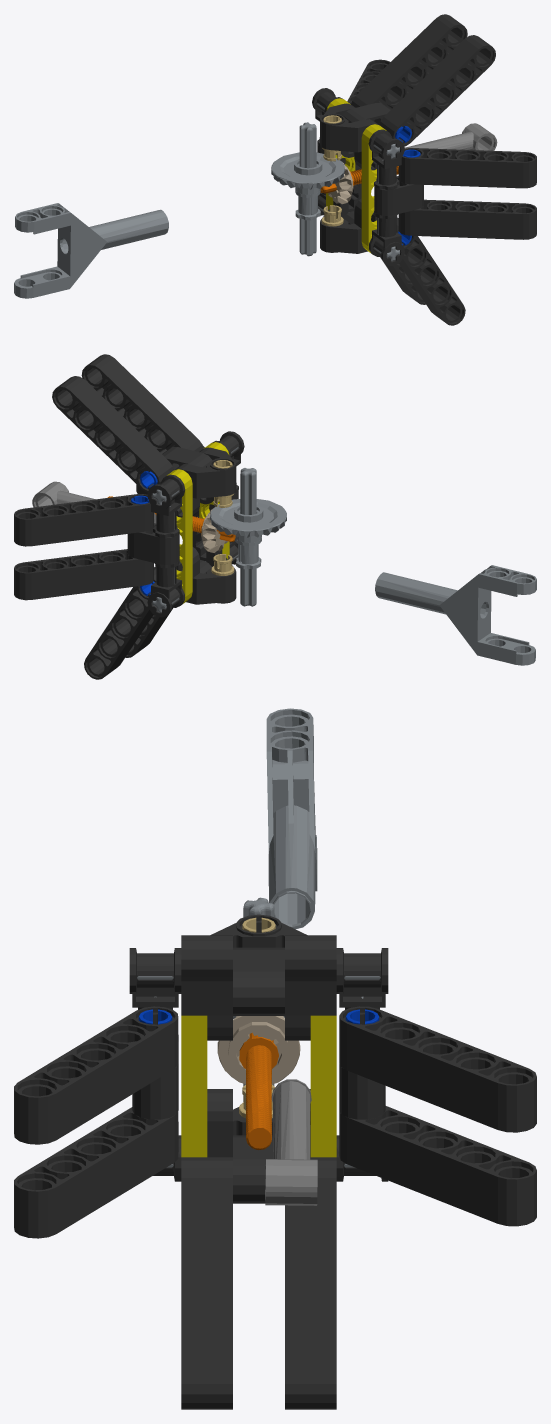
File: Hook2.fbx
3 views of the same model, one above another, from view 1: azimuth 30°, elevation 25°; view 2: azimuth 150°, elevation 25°; view 3: azimuth 270°, elevation 25° (orthographic). The views are drawn at different scales.
Parts seen in each view (by area): view 1: Hook2; view 2: Hook2; view 3: Hook2.
Boxes of the visible parts, bbox=[...] form: Hook2: bbox=[14, 14, 536, 325]; Hook2: bbox=[14, 354, 536, 679]; Hook2: bbox=[14, 708, 536, 1409].
Bounding box in the file's own units: 15.43 × 8.48 × 8.08.
